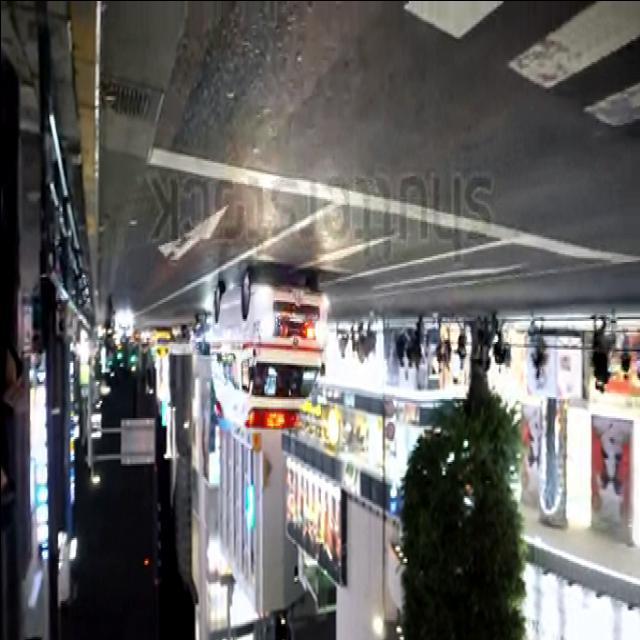ambulance: (208, 264, 330, 428)
